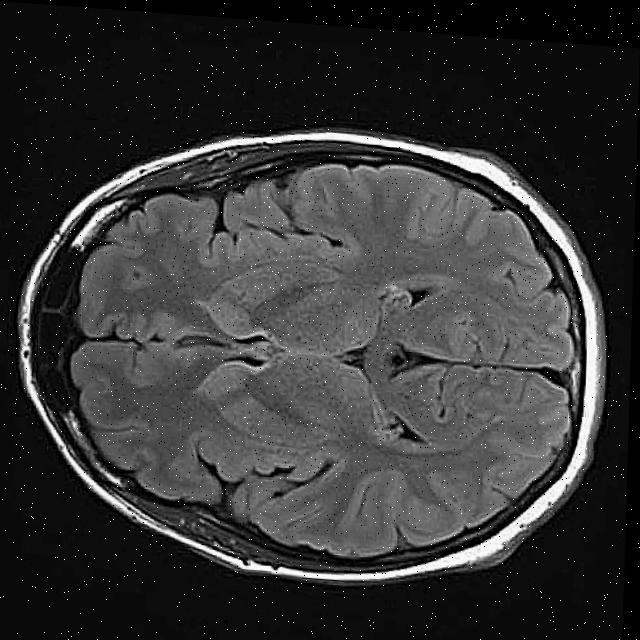NoTumor: (8, 99, 614, 605)
